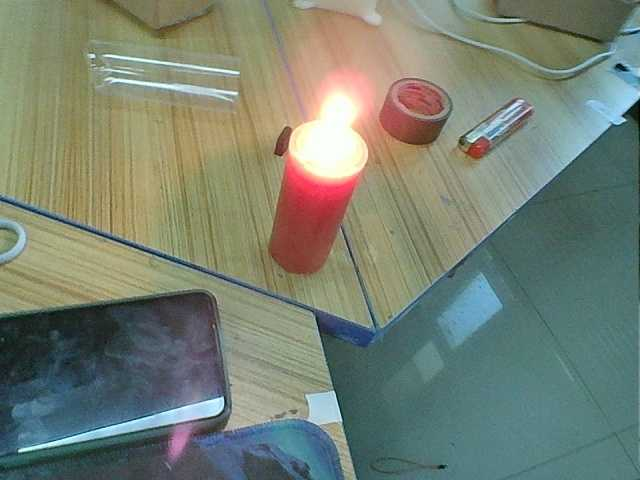candle: (253, 139, 360, 271)
fire: (292, 87, 366, 177)
